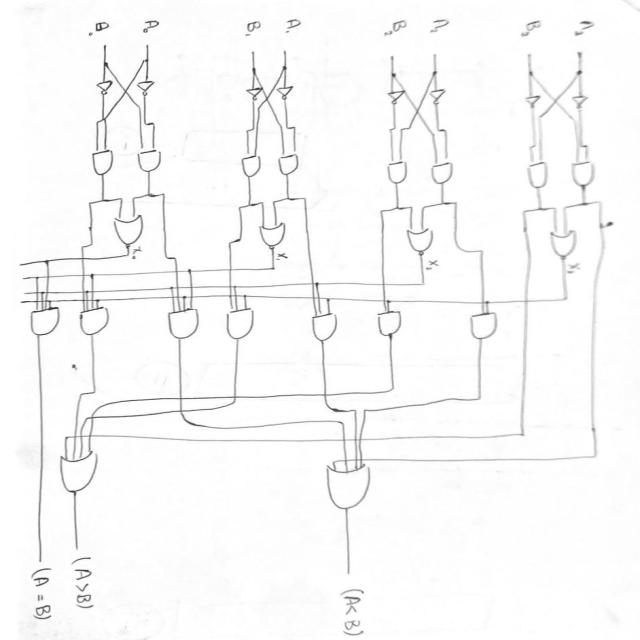AND: (518, 156, 559, 199), (565, 155, 608, 192), (76, 146, 121, 180), (164, 303, 202, 342), (24, 305, 64, 340), (132, 146, 177, 176), (373, 308, 410, 344), (466, 312, 506, 345), (305, 310, 343, 344), (223, 301, 255, 341), (76, 302, 111, 336), (274, 150, 311, 180), (237, 148, 269, 181), (427, 160, 460, 190), (384, 159, 415, 188)
NOR: (112, 210, 146, 251), (546, 223, 582, 260), (256, 219, 287, 253), (406, 223, 434, 257)
NOT: (131, 78, 159, 98), (422, 88, 452, 106), (92, 78, 117, 98), (382, 90, 409, 108), (243, 85, 268, 104), (568, 94, 592, 112), (275, 85, 302, 101), (520, 95, 545, 109)
OR: (321, 461, 391, 522), (53, 449, 113, 499)
